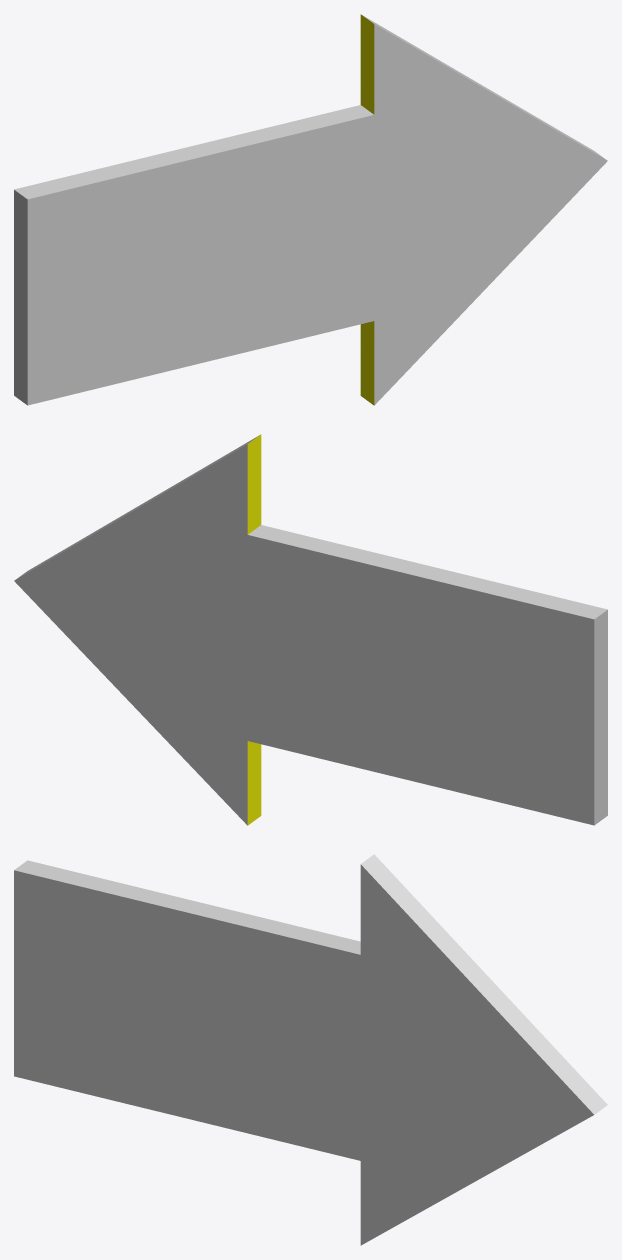
The model's file is arrow.fbx.
3 renders of one model, top to bottom at view 1: azimuth 30°, elevation 25°; view 2: azimuth 150°, elevation 25°; view 3: azimuth 330°, elevation 25°, orthographic.
Parts seen in each view (by area): view 1: Arrow1; view 2: Arrow1; view 3: Arrow1.
Part boxes in pixels (<box>): Arrow1: <box>14,14,607,405</box>; Arrow1: <box>14,434,607,825</box>; Arrow1: <box>14,854,607,1245</box>.
Bounding box in the file's own units: 211 × 133 × 8.57.
